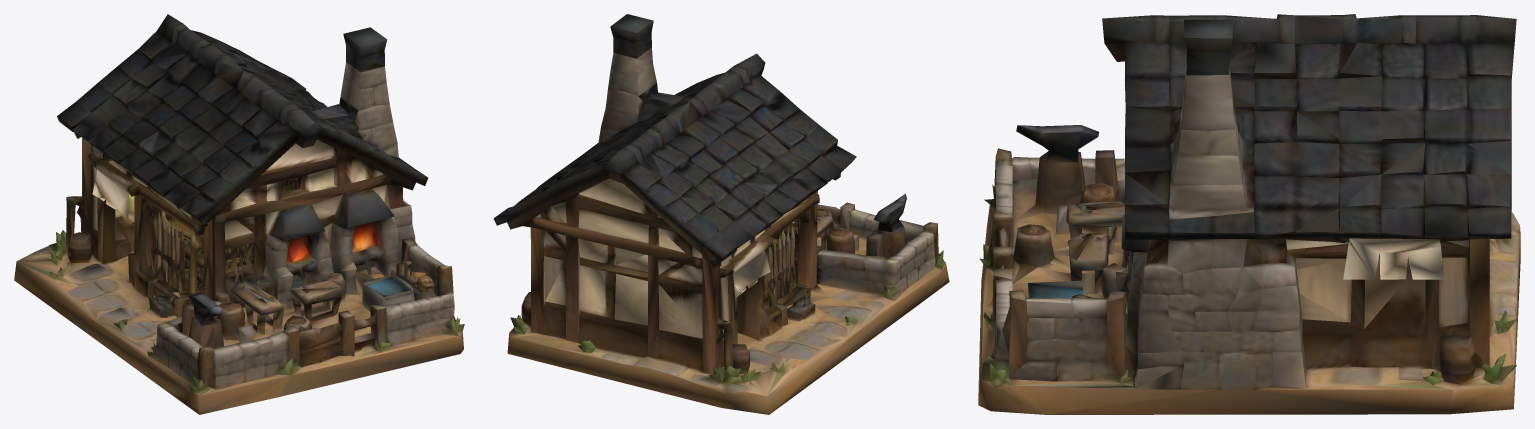
File: smith_t2.glb
3 views of the same model, side by side, from view 1: azimuth 30°, elevation 25°; view 2: azimuth 150°, elevation 25°; view 3: azimuth 270°, elevation 25° (orthographic). The views are drawn at different scales.
Visible parts, largest first — view 1: tripo_node_78810238-a361-4db0-a77a-c850ee086af8; view 2: tripo_node_78810238-a361-4db0-a77a-c850ee086af8; view 3: tripo_node_78810238-a361-4db0-a77a-c850ee086af8.
Part boxes in pixels (bbox=[...]): tripo_node_78810238-a361-4db0-a77a-c850ee086af8: bbox=[14, 14, 464, 414]; tripo_node_78810238-a361-4db0-a77a-c850ee086af8: bbox=[493, 14, 949, 414]; tripo_node_78810238-a361-4db0-a77a-c850ee086af8: bbox=[978, 14, 1520, 414].
Size of the model in its own units: 0.8263 by 0.7328 by 0.979.
Materials: 1 (1 with a texture image).
